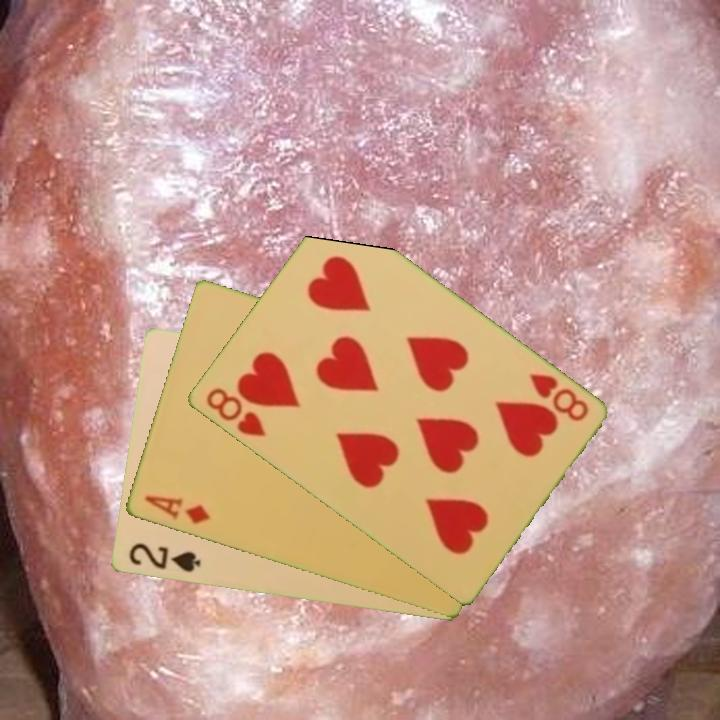2s: (125, 540, 203, 575)
8h: (201, 384, 268, 440), (525, 369, 591, 425)
Ad: (140, 492, 213, 528)
